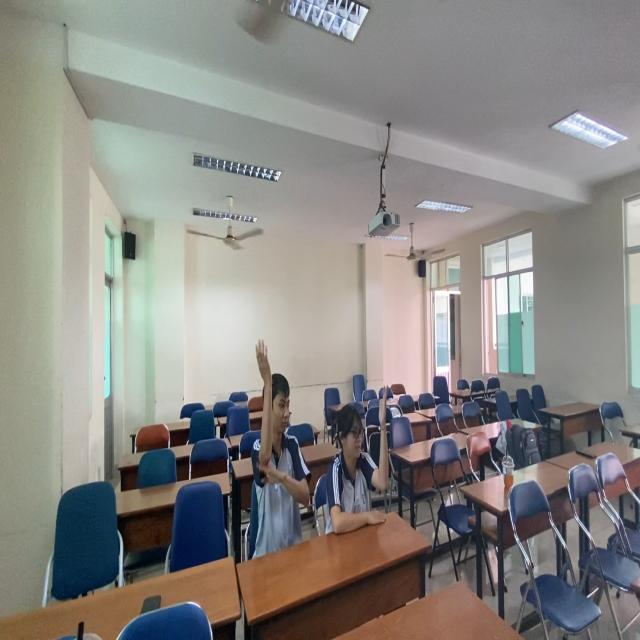raise_hand: (252, 334, 315, 551), (330, 387, 397, 544)
